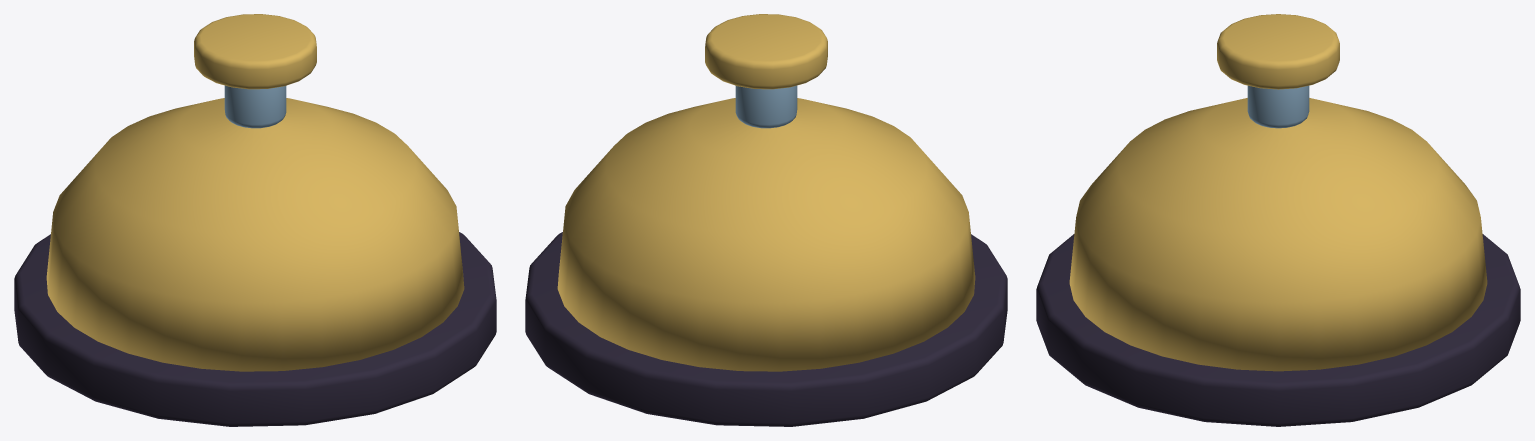
Rendered from desk_bell.glb.
The picture shows the model from 3 angles, left to right: view 1: azimuth 30°, elevation 25°; view 2: azimuth 150°, elevation 25°; view 3: azimuth 270°, elevation 25°; orthographic projection.
Parts seen in each view (by area): view 1: Brass_dome, Stable_base, Bell_button, Plunger; view 2: Brass_dome, Stable_base, Bell_button, Plunger; view 3: Brass_dome, Stable_base, Bell_button, Plunger.
Boxes of the visible parts, x1=… form: Brass_dome: x1=46, y1=98, x2=464, y2=371; Stable_base: x1=14, y1=232, x2=496, y2=426; Bell_button: x1=194, y1=14, x2=316, y2=89; Plunger: x1=224, y1=85, x2=286, y2=128; Brass_dome: x1=557, y1=98, x2=975, y2=371; Stable_base: x1=525, y1=232, x2=1007, y2=426; Bell_button: x1=705, y1=14, x2=827, y2=89; Plunger: x1=735, y1=85, x2=797, y2=128; Brass_dome: x1=1069, y1=98, x2=1487, y2=371; Stable_base: x1=1036, y1=234, x2=1520, y2=426; Bell_button: x1=1217, y1=14, x2=1339, y2=89; Plunger: x1=1247, y1=85, x2=1309, y2=128.
Size of the model in its own units: 0.22 by 0.145 by 0.22.
